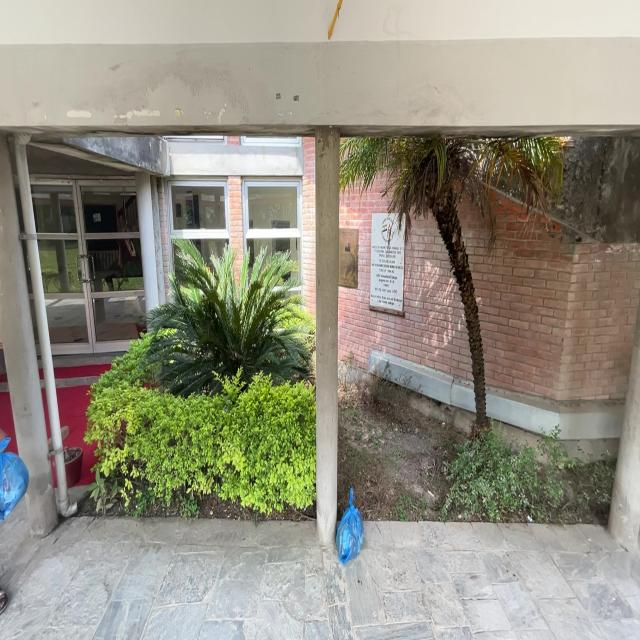garbage: (322, 490, 364, 569)
